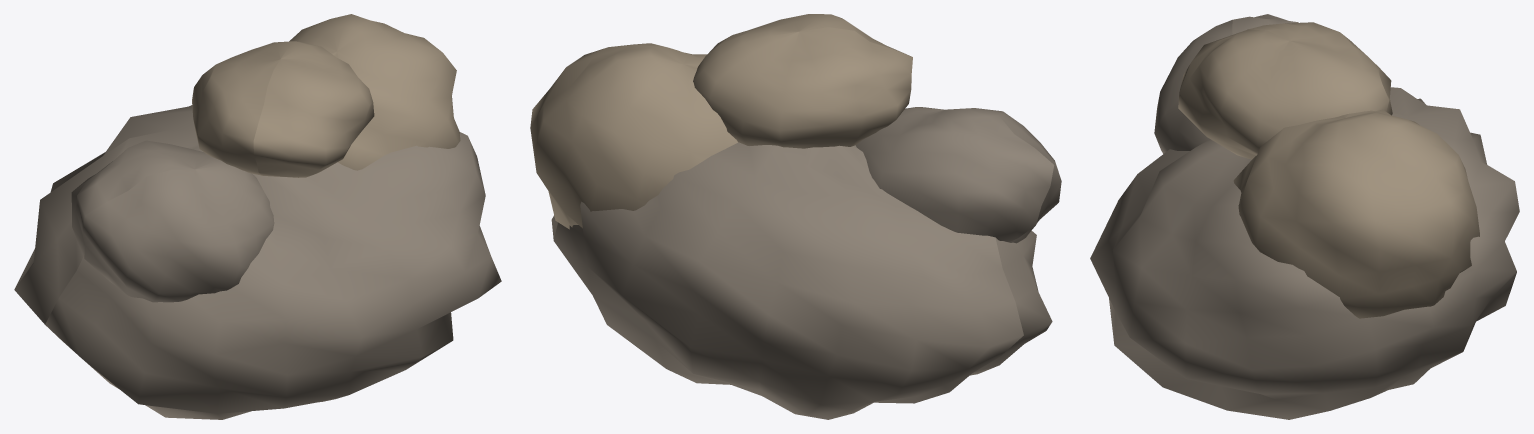
Rendered from kopje.glb.
3 views of the same model, side by side, from view 1: azimuth 30°, elevation 25°; view 2: azimuth 150°, elevation 25°; view 3: azimuth 270°, elevation 25° (orthographic). The views are drawn at different scales.
Visible parts, largest first — view 1: Kopje (rock pile); view 2: Kopje (rock pile); view 3: Kopje (rock pile).
Part boxes in pixels (left/top/right/bottom): Kopje (rock pile): left=14, top=14, right=501, bottom=419; Kopje (rock pile): left=530, top=14, right=1061, bottom=419; Kopje (rock pile): left=1090, top=14, right=1519, bottom=419.
Size of the model in its own units: 4.9 by 3.59 by 3.92.
